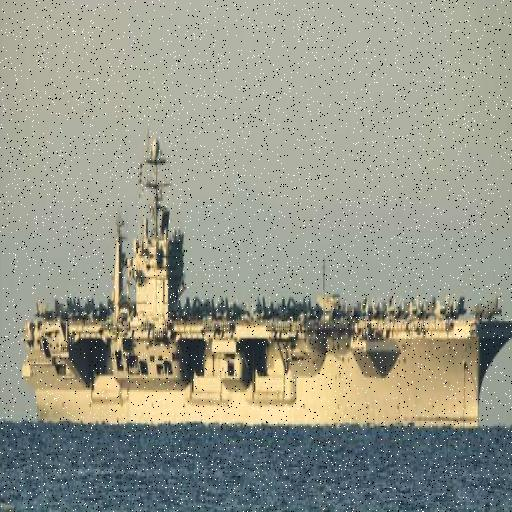Portanaves: (21, 128, 512, 436)
